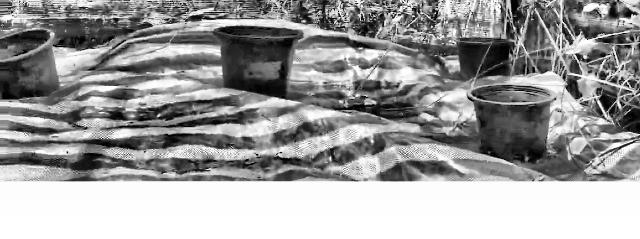pot: (463, 84, 561, 162), (215, 19, 306, 98), (0, 26, 61, 97), (452, 33, 521, 84)
